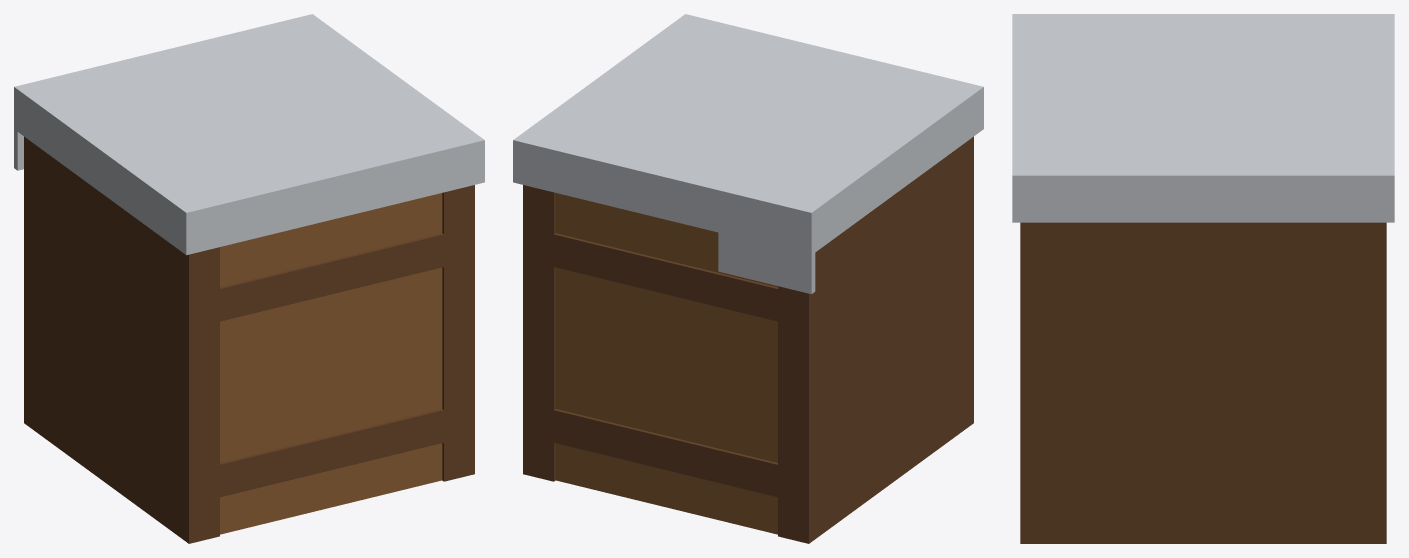
The model's file is ntu-snow-crate.glb.
The picture shows the model from 3 angles, left to right: view 1: azimuth 30°, elevation 25°; view 2: azimuth 150°, elevation 25°; view 3: azimuth 270°, elevation 25°; orthographic projection. The views are drawn at different scales.
Parts seen in each view (by area): view 1: box-prop; view 2: box-prop; view 3: box-prop.
Part boxes in pixels (x1,y1,x2,y2): box-prop: [14, 14, 484, 543]; box-prop: [513, 14, 983, 543]; box-prop: [1012, 14, 1394, 543].
Size of the model in its own units: 0.96 by 1.03 by 0.96.
